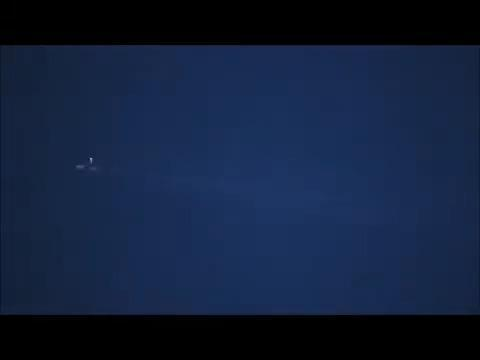Plane: (64, 151, 114, 180)
